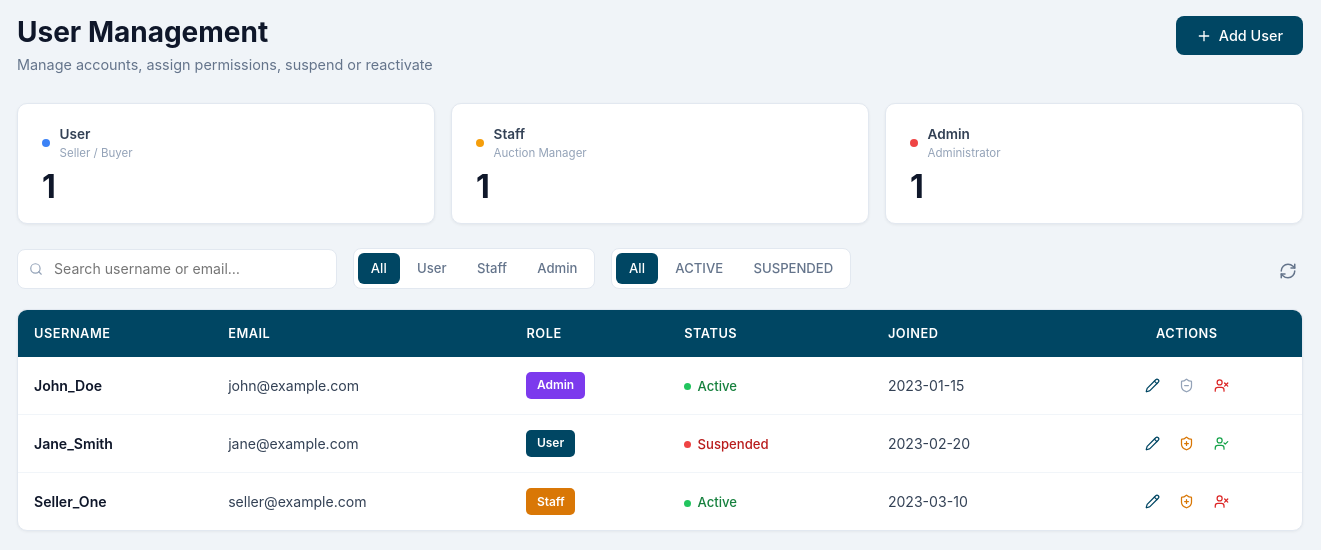
UserManagement Component › filters users by search term
expect the text "John_Doe" is shown: met, box [34,377,102,394]
In the field with placeholder "Search username or email…": {"x": 177, "y": 269} [17,248,337,289], type "jane"
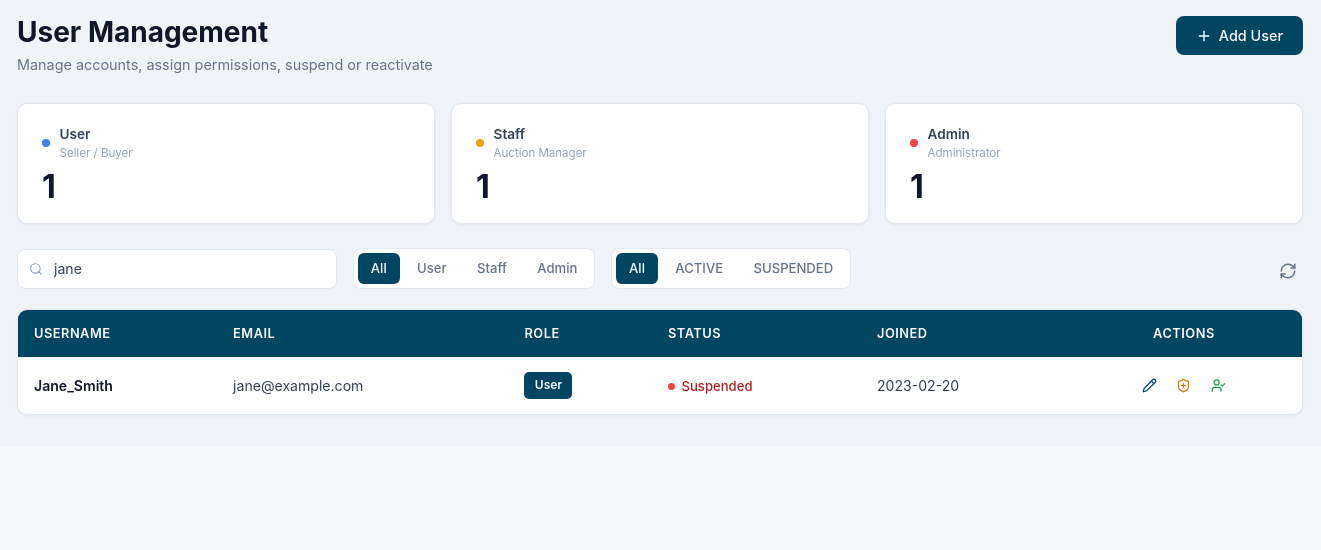
expect the text "Jane_Smith" is shown: met, box [34,377,113,394]
expect the text "John_Doe" is gone: met
